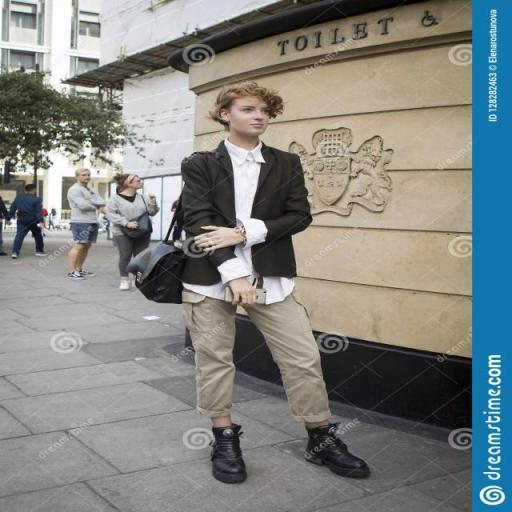person: (174, 85, 377, 487), (103, 176, 158, 290), (68, 170, 105, 281), (15, 186, 52, 259)
